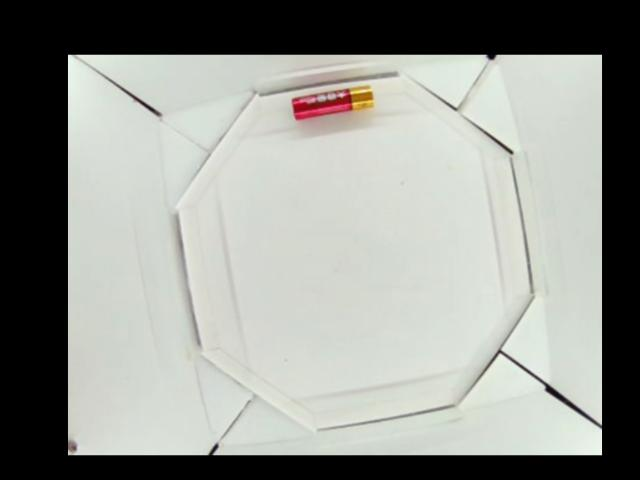Battery: (291, 85, 374, 118)
